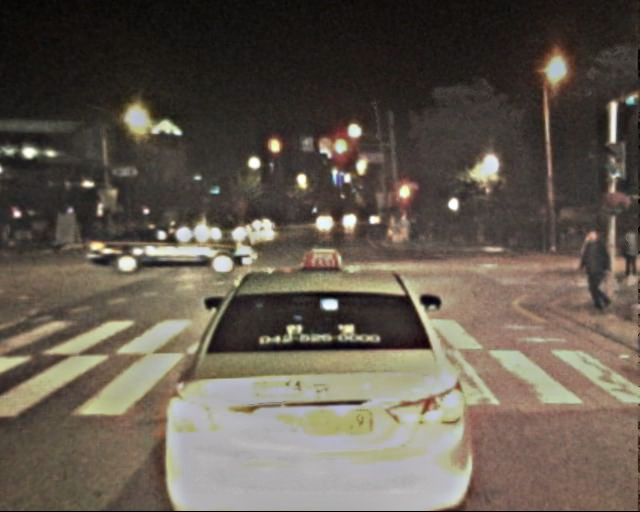person: (579, 227, 614, 312), (620, 226, 640, 279), (410, 217, 440, 245), (5, 215, 23, 246)
